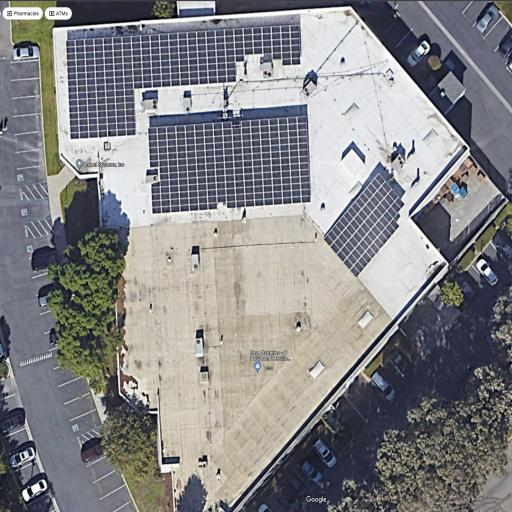Solar-Flat-Roof: (54, 7, 470, 323)
